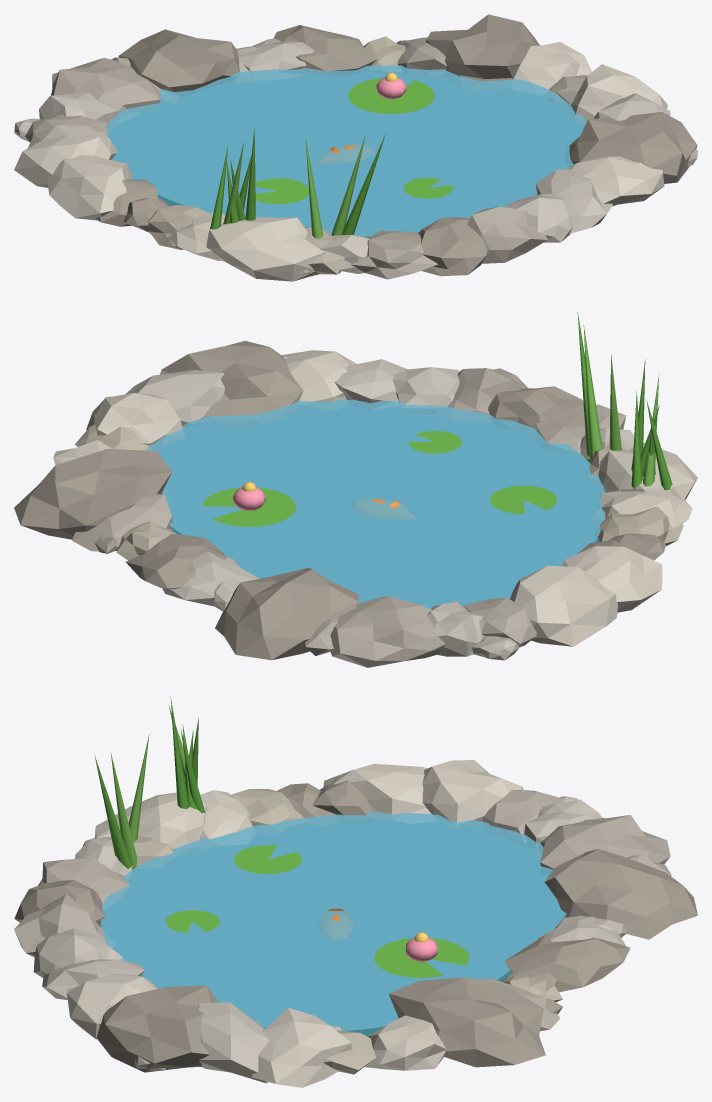
File: pond.glb
3 views of the same model, one above another, from view 1: azimuth 30°, elevation 25°; view 2: azimuth 150°, elevation 25°; view 3: azimuth 270°, elevation 25° (orthographic). The views are drawn at different scales.
Bounding box in the file's own units: 2.1 × 0.5093 × 2.
